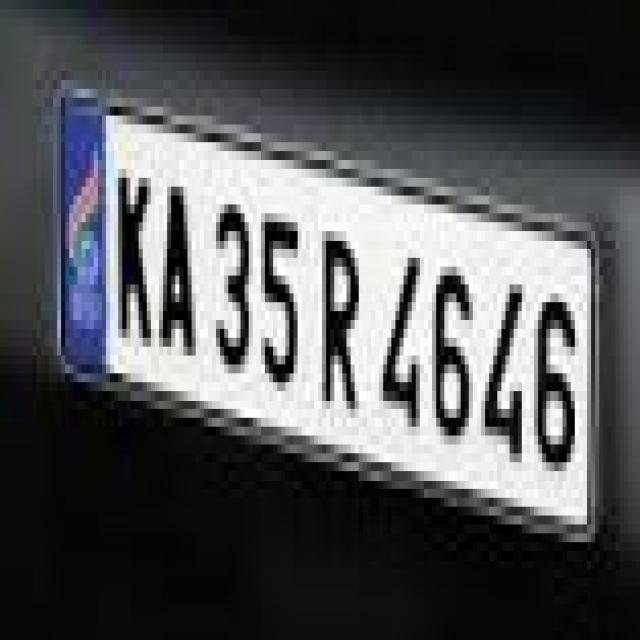3: (209, 182, 252, 377)
4: (484, 268, 527, 464), (381, 246, 423, 433)
5: (258, 197, 306, 400)
6: (428, 256, 480, 442), (533, 285, 578, 480)
A: (160, 180, 196, 363)
K: (110, 157, 155, 350)
R: (318, 223, 366, 414)
